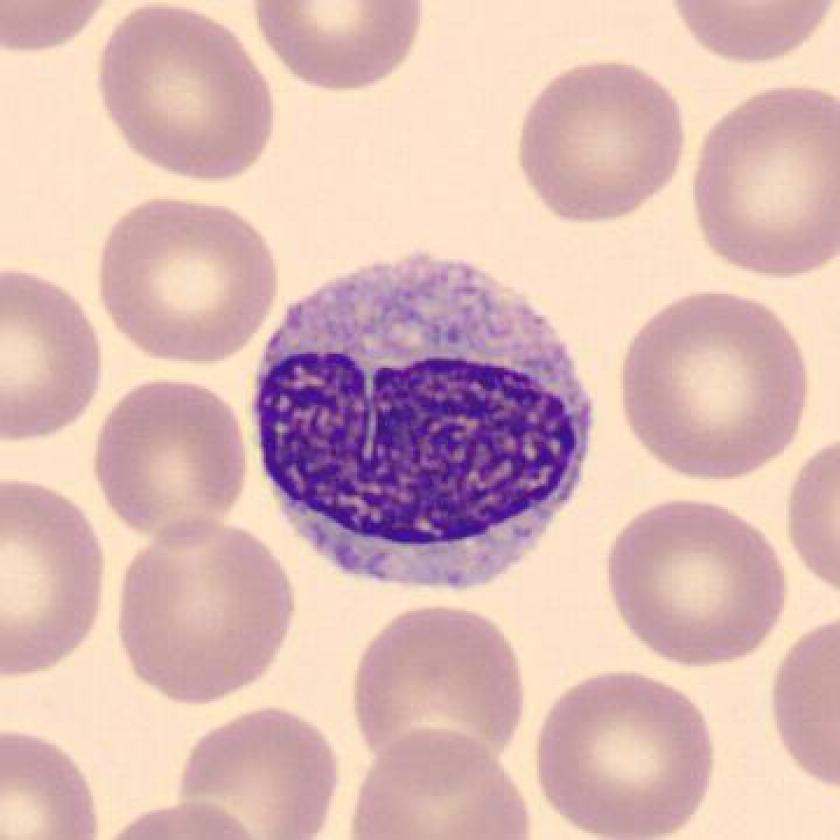monocyte: (239, 228, 617, 617)
